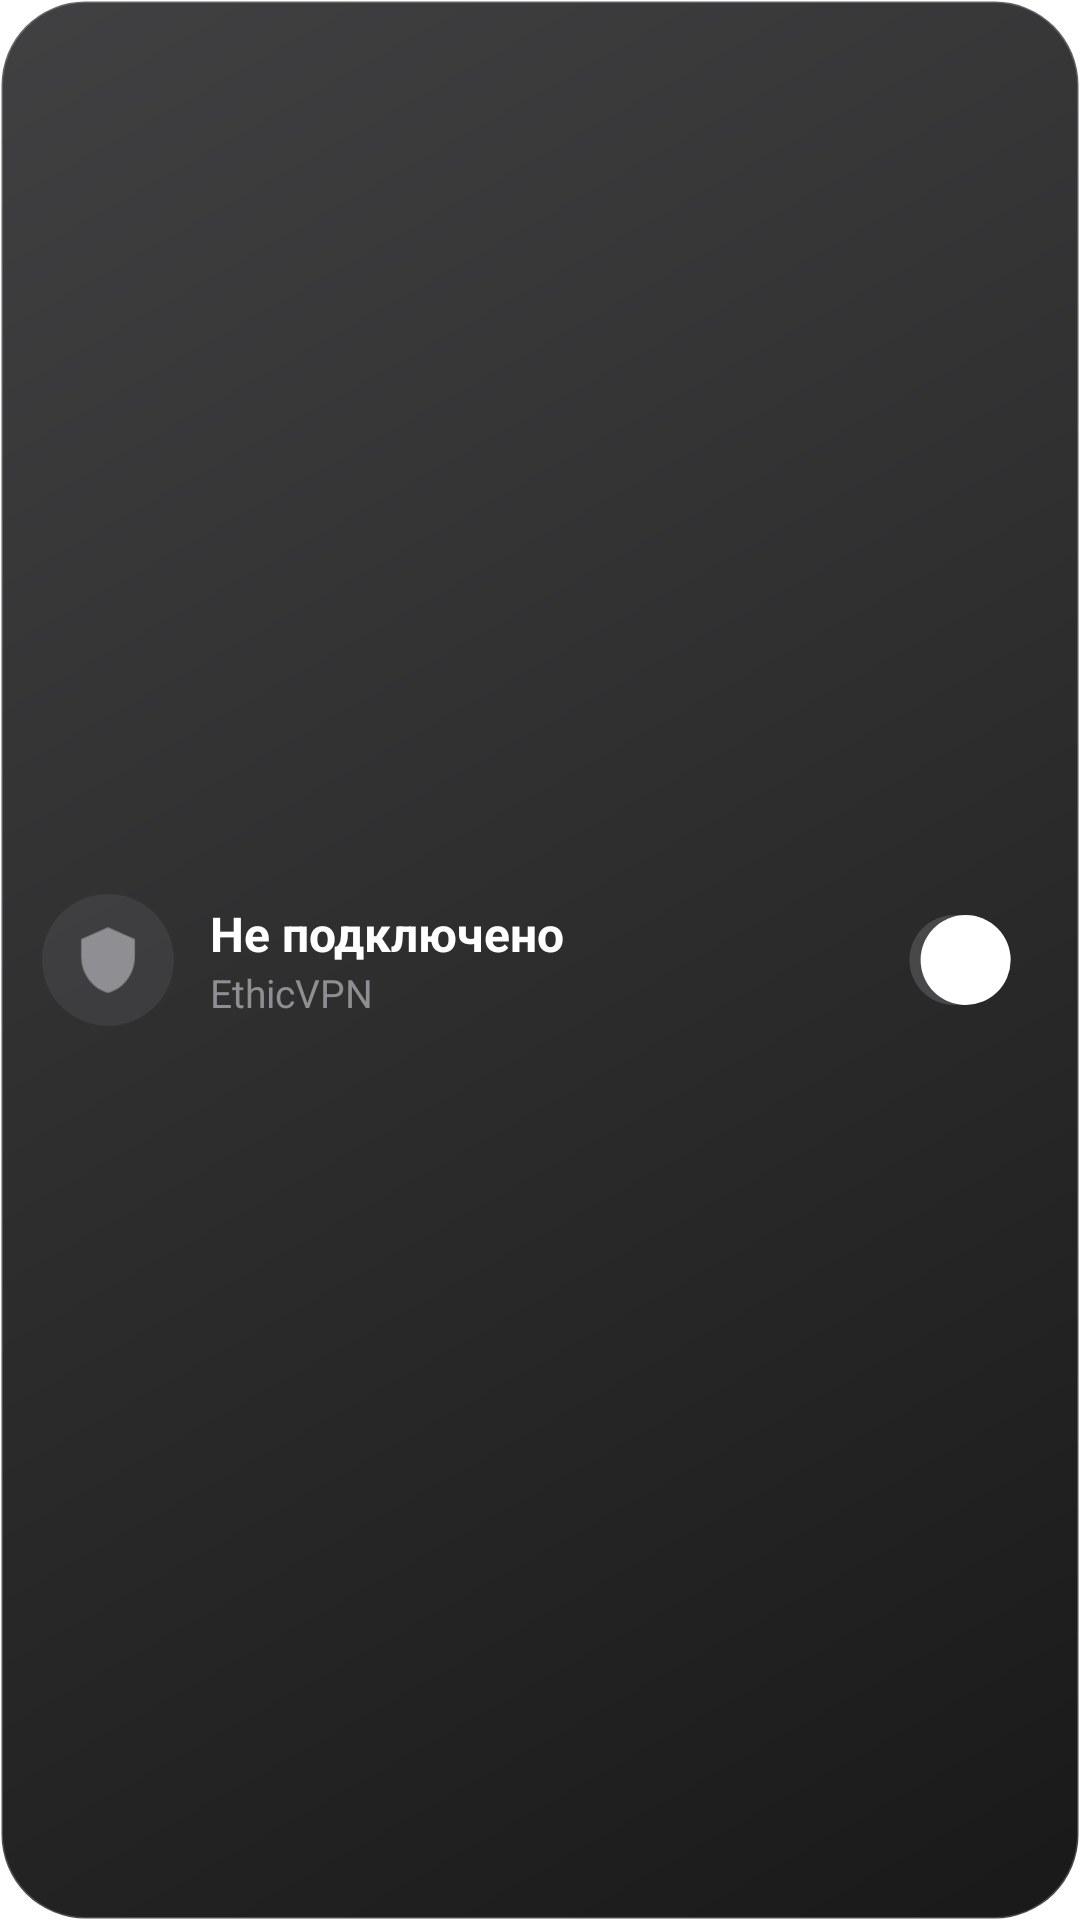

Icon bounding boxes for this 1080*1920 phone screenshot, format (x1, y1, x2, y2):
widget shield off: (81, 927, 135, 993)
widget switch off: (910, 915, 1011, 1005)
